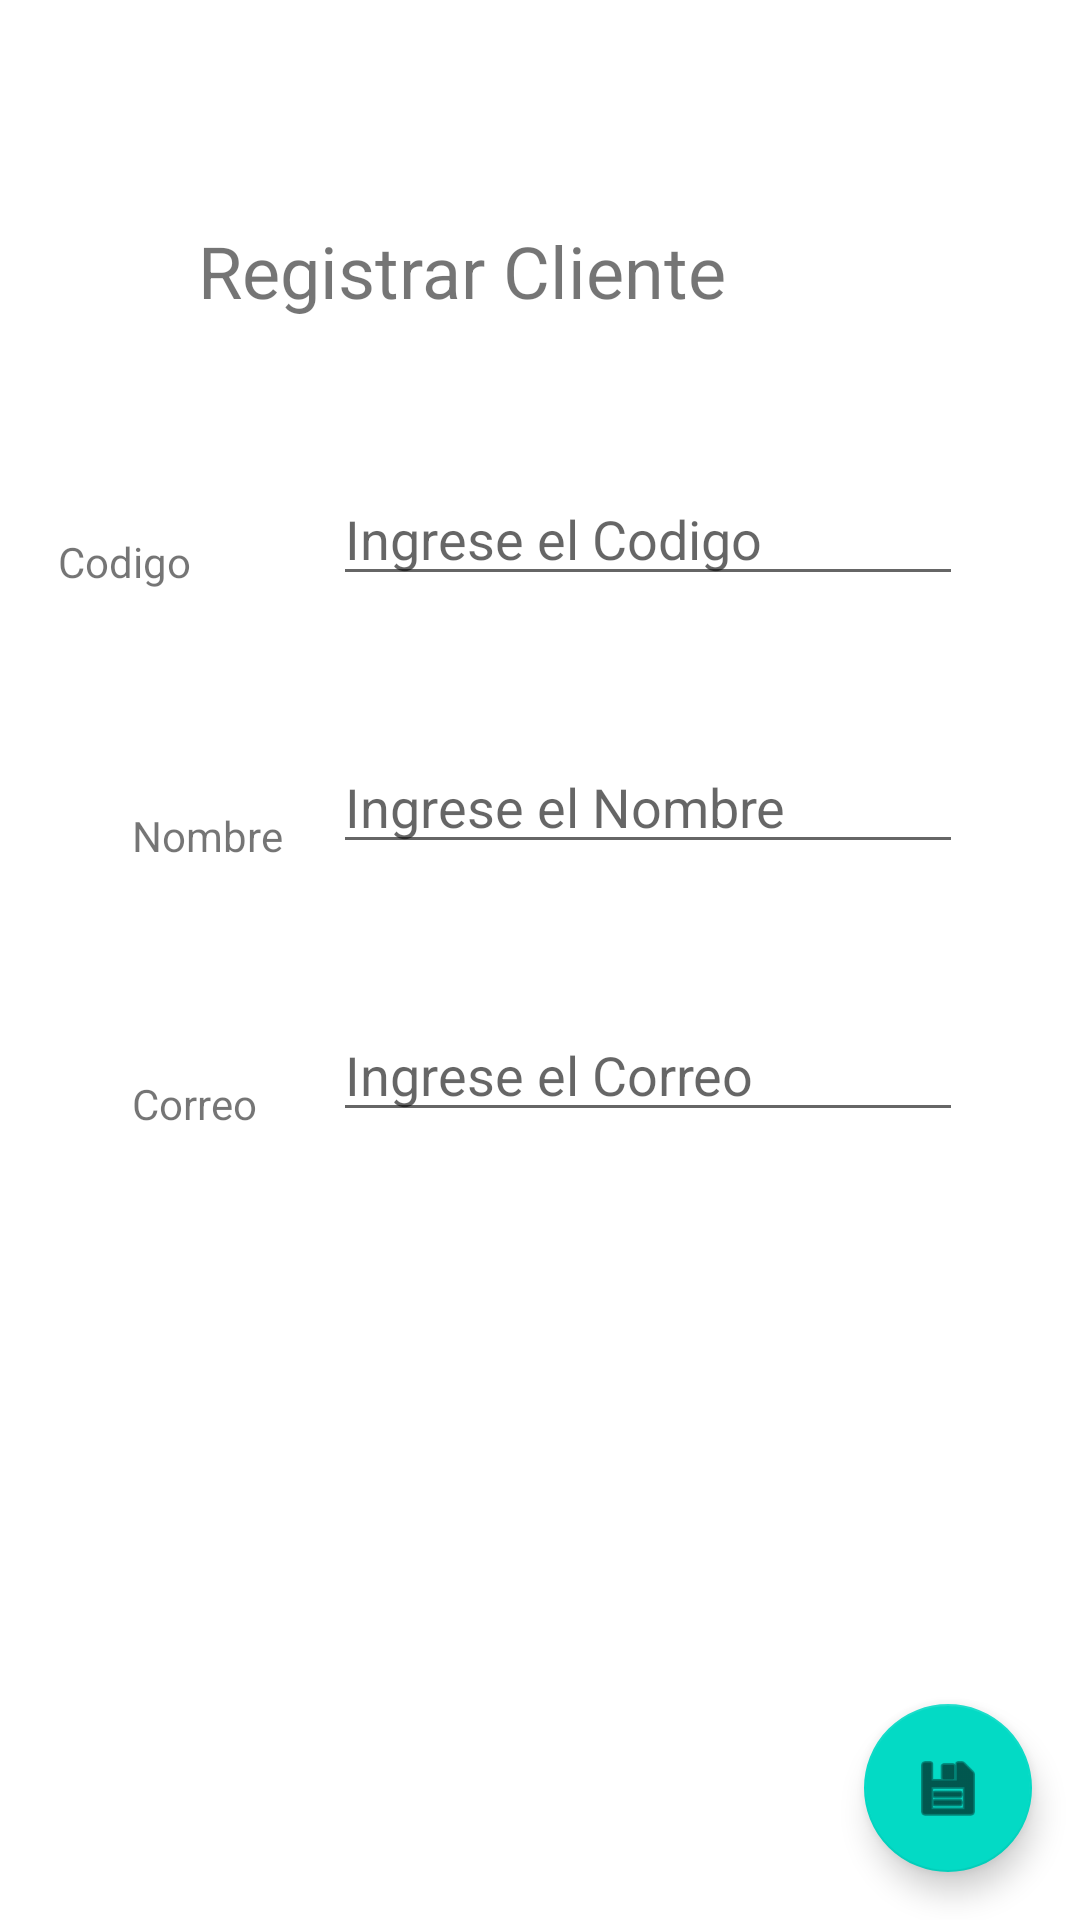

Icons on this 1080x1920 Android screen, each with its box as rect(x1, y1, x2, y2):
save: rect(864, 1704, 1032, 1872)
